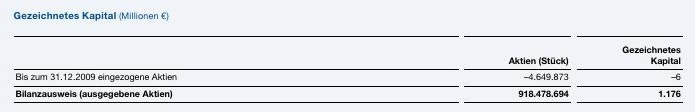table: (0, 0, 695, 112)
